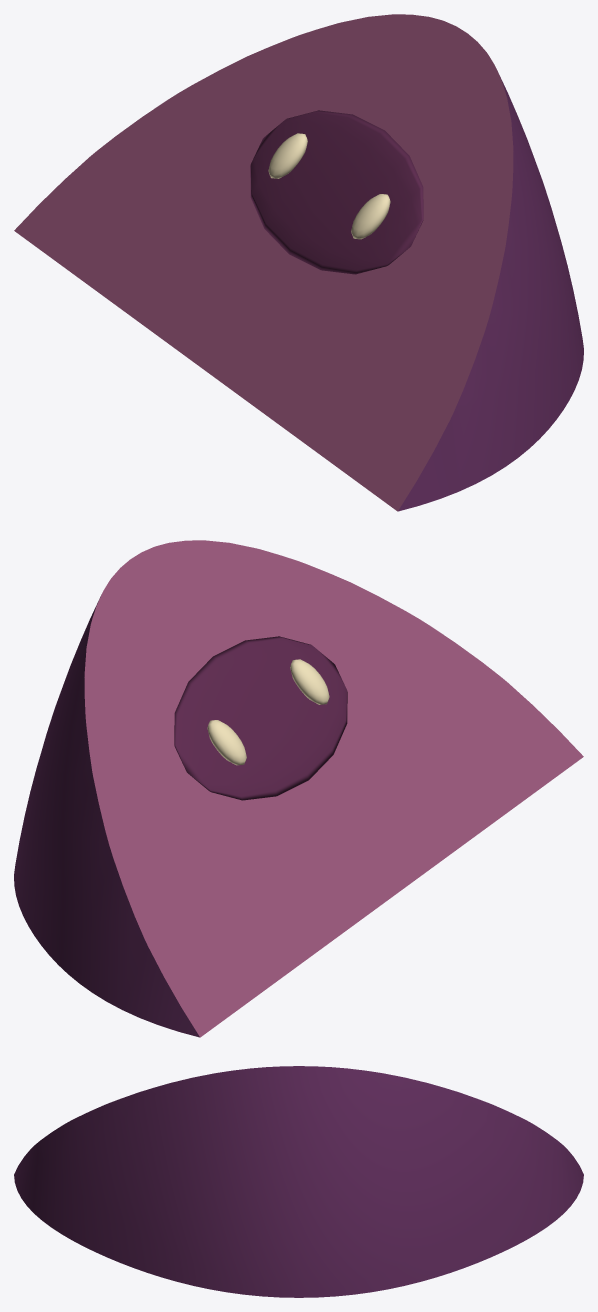
Rendered from event_rainbow_violet_chunk.glb.
The picture shows the model from 3 angles, top to bottom: view 1: azimuth 30°, elevation 25°; view 2: azimuth 150°, elevation 25°; view 3: azimuth 270°, elevation 25°; orthographic projection. The views are drawn at different scales.
Visible parts, largest first — view 1: violet archive violet heirloom skin / violet moist cut flesh, violet archive violet seed chambers, violet archive Ivory archive seeds; view 2: violet archive violet heirloom skin / violet moist cut flesh, violet archive violet seed chambers, violet archive Ivory archive seeds; view 3: violet archive violet heirloom skin / violet moist cut flesh.
Part boxes in pixels (box(x1,y1,x2,y2)): violet archive violet heirloom skin / violet moist cut flesh: box(14, 14, 583, 511); violet archive violet seed chambers: box(250, 110, 423, 274); violet archive Ivory archive seeds: box(268, 133, 390, 239); violet archive violet heirloom skin / violet moist cut flesh: box(14, 540, 583, 1037); violet archive violet seed chambers: box(174, 636, 347, 800); violet archive Ivory archive seeds: box(207, 659, 329, 765); violet archive violet heirloom skin / violet moist cut flesh: box(14, 1066, 583, 1297).
Bounding box in the file's own units: 0.451 × 0.3472 × 0.8815.
